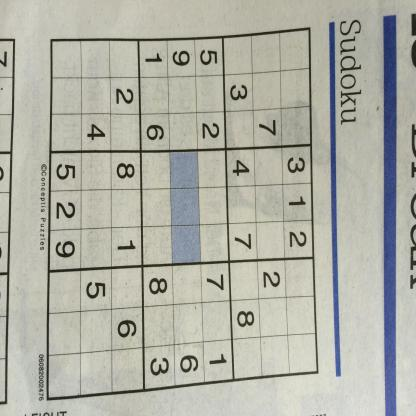sudoku: (43, 19, 322, 405)
